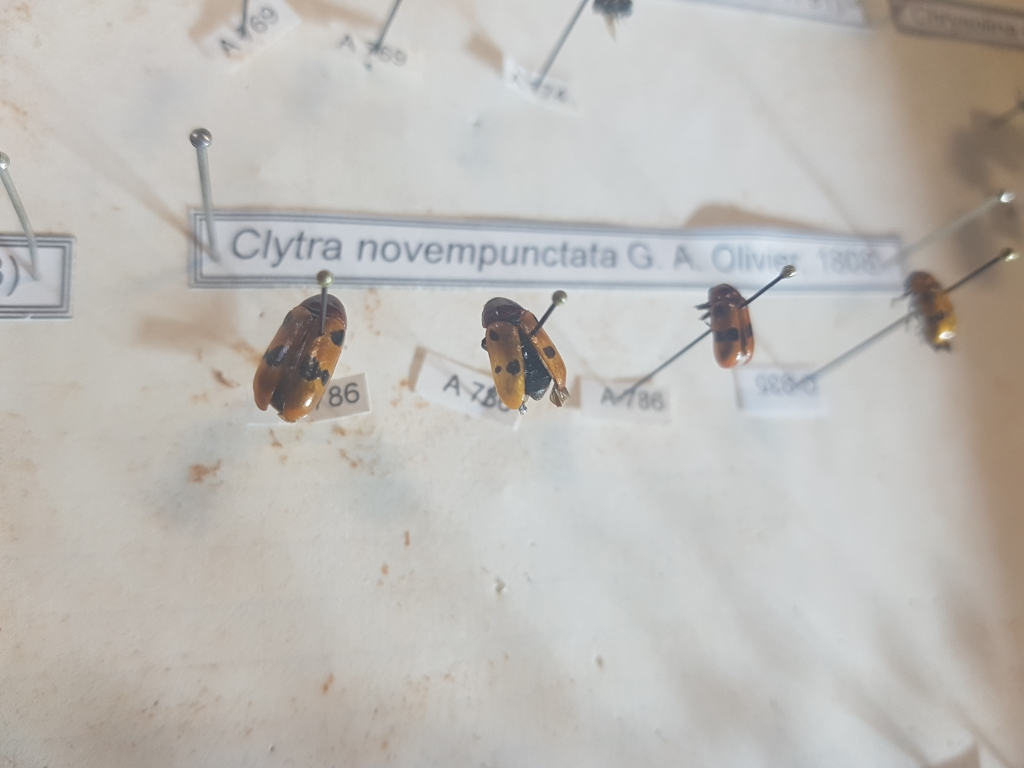Clytra_novempunctata: (247, 286, 348, 425), (476, 289, 579, 414), (700, 278, 758, 372)
